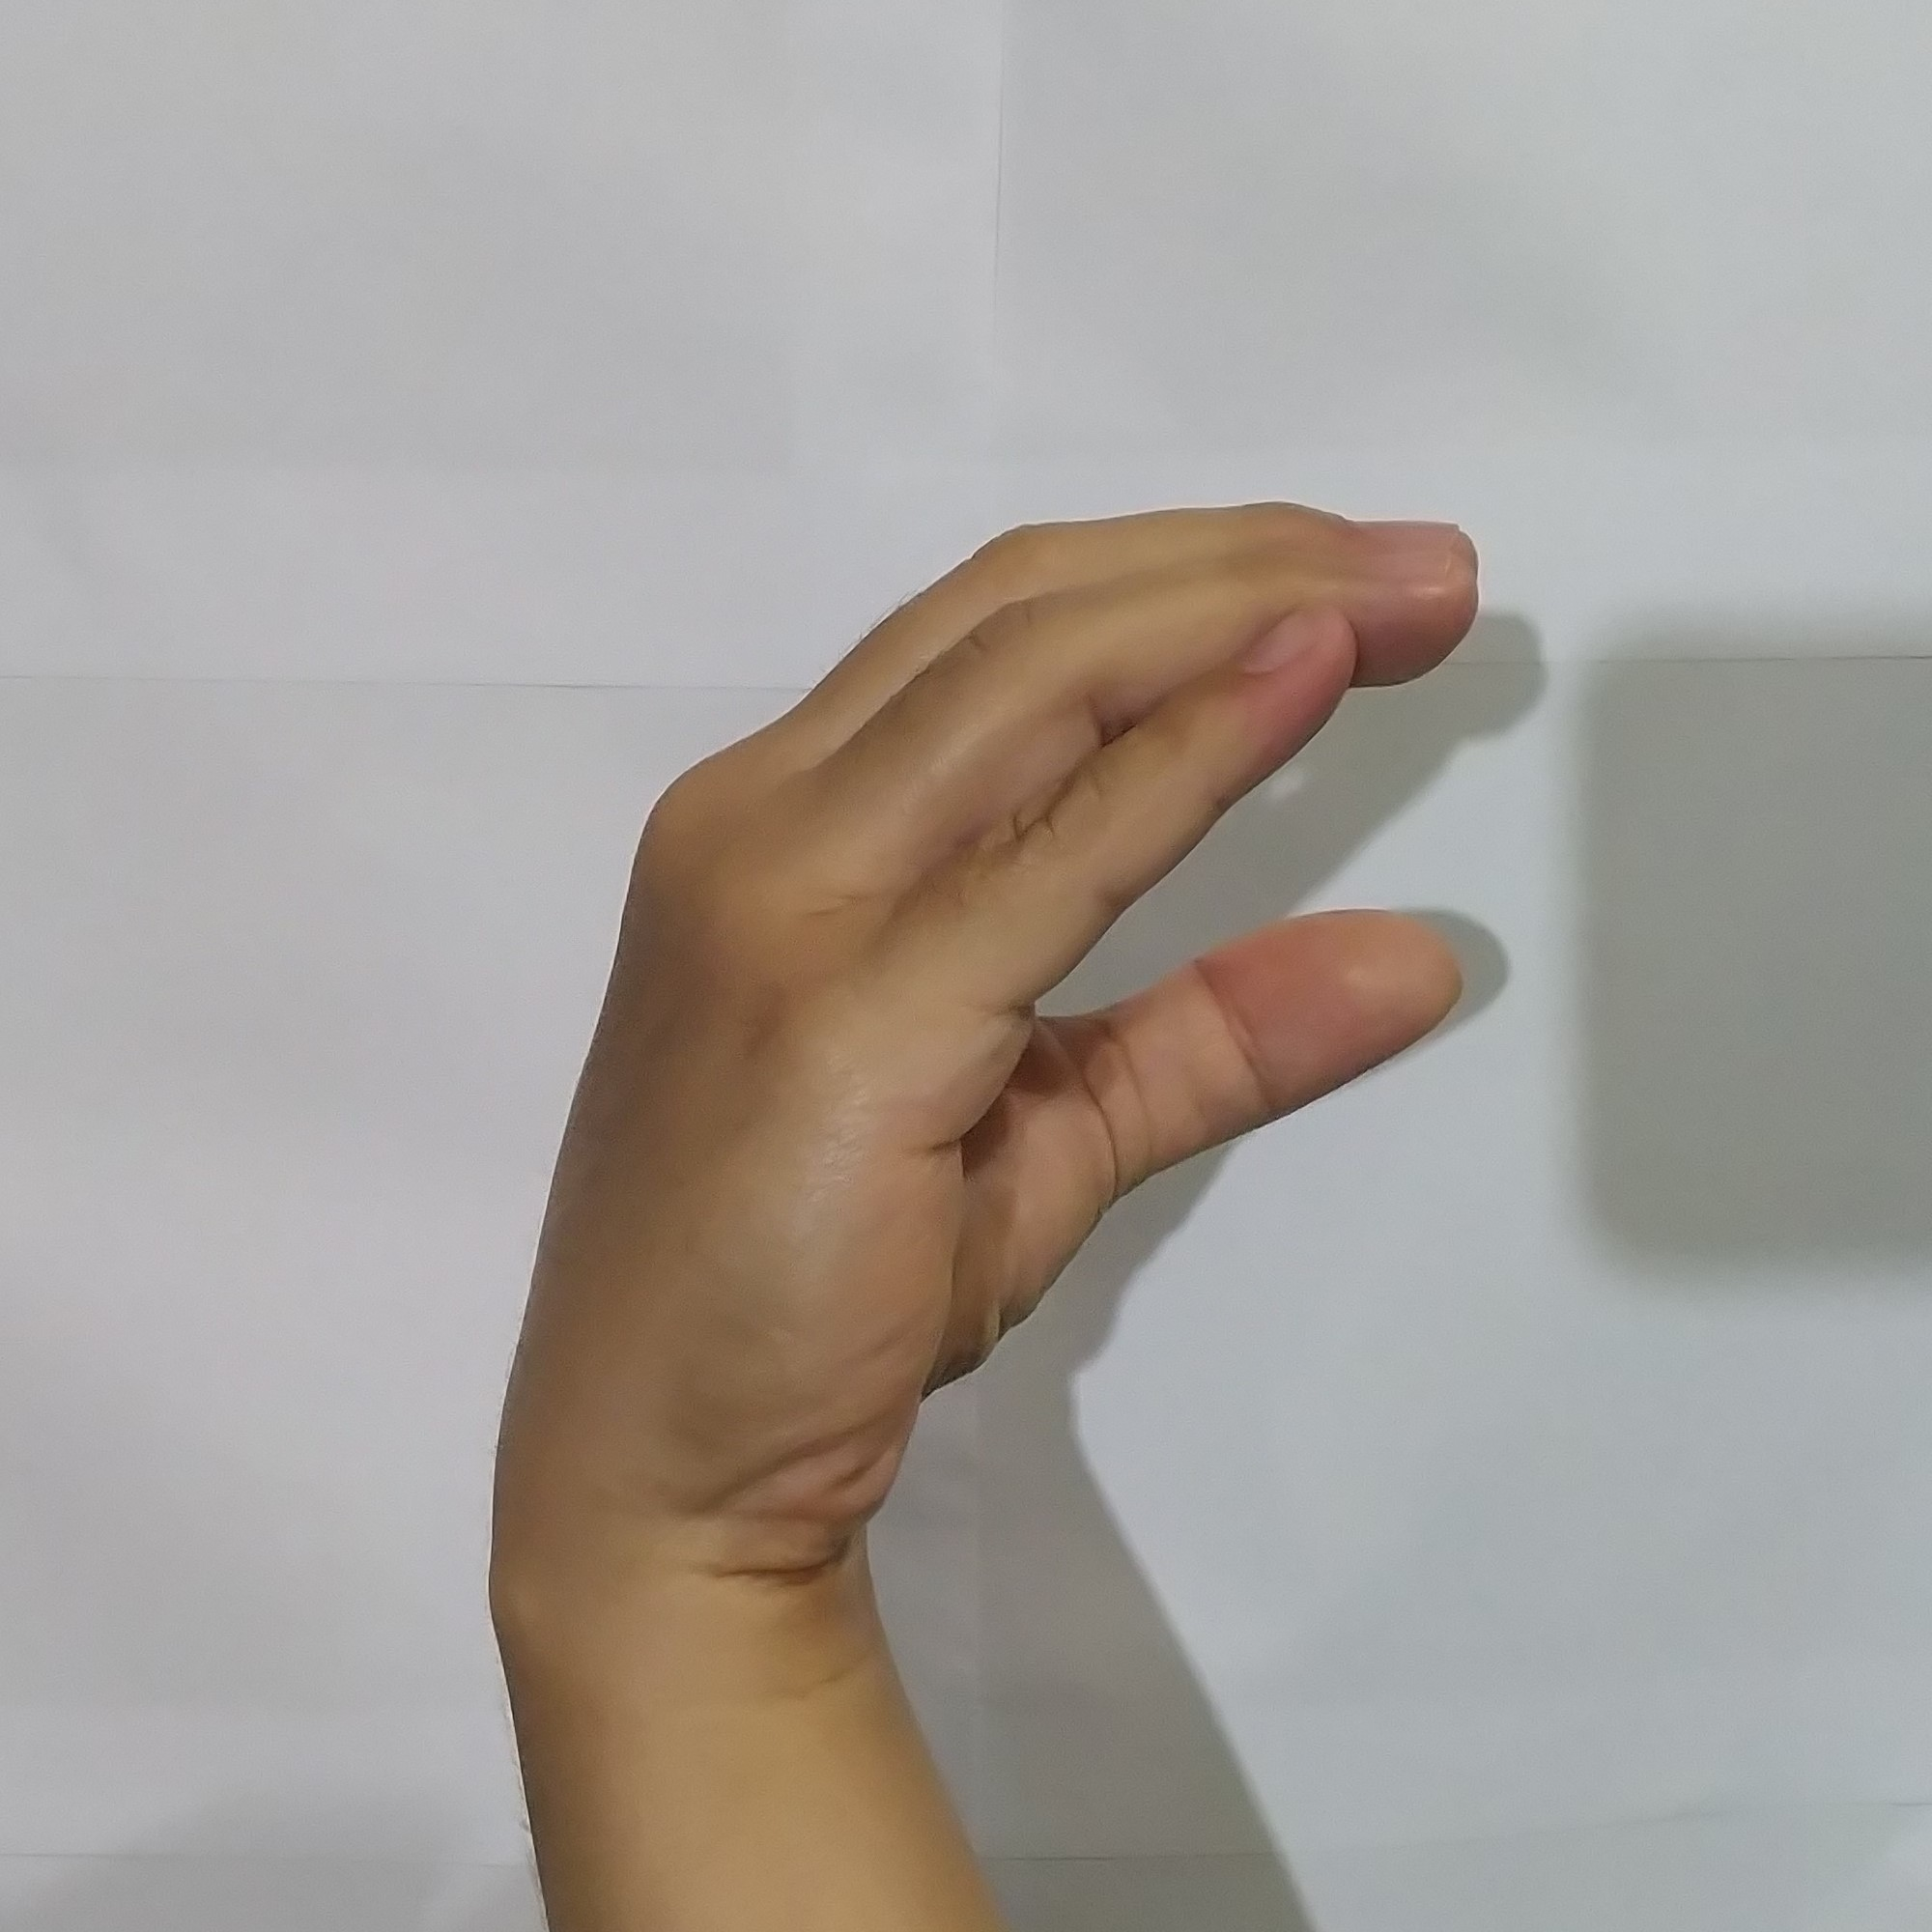C: (499, 474, 1520, 1506)
